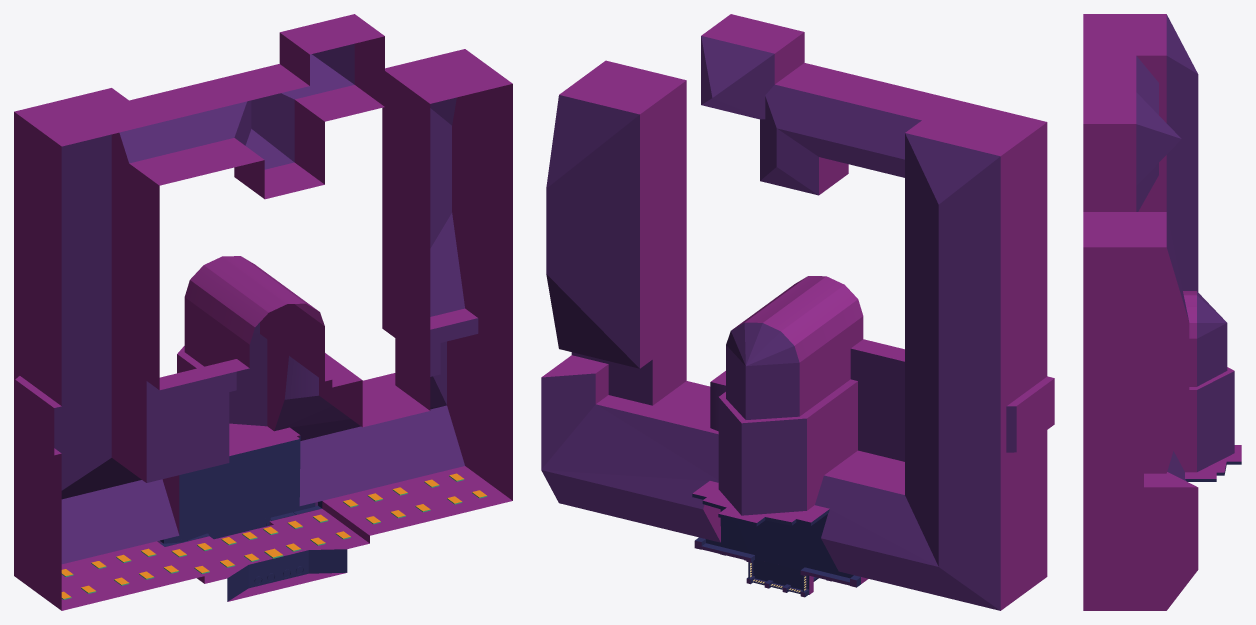
File: Muzeum Malczewskiego Tier 3.fbx
The picture shows the model from 3 angles, left to right: view 1: azimuth 30°, elevation 25°; view 2: azimuth 150°, elevation 25°; view 3: azimuth 270°, elevation 25°; orthographic projection. The views are drawn at different scales.
Visible parts, largest first — view 1: Cylinder.003; view 2: Cylinder.003; view 3: Cylinder.003.
Part boxes in pixels (bbox=[...]): Cylinder.003: bbox=[14, 14, 512, 610]; Cylinder.003: bbox=[541, 14, 1054, 610]; Cylinder.003: bbox=[1083, 14, 1241, 610].
Size of the model in its own units: 3.76 by 4.13 by 1.29.
